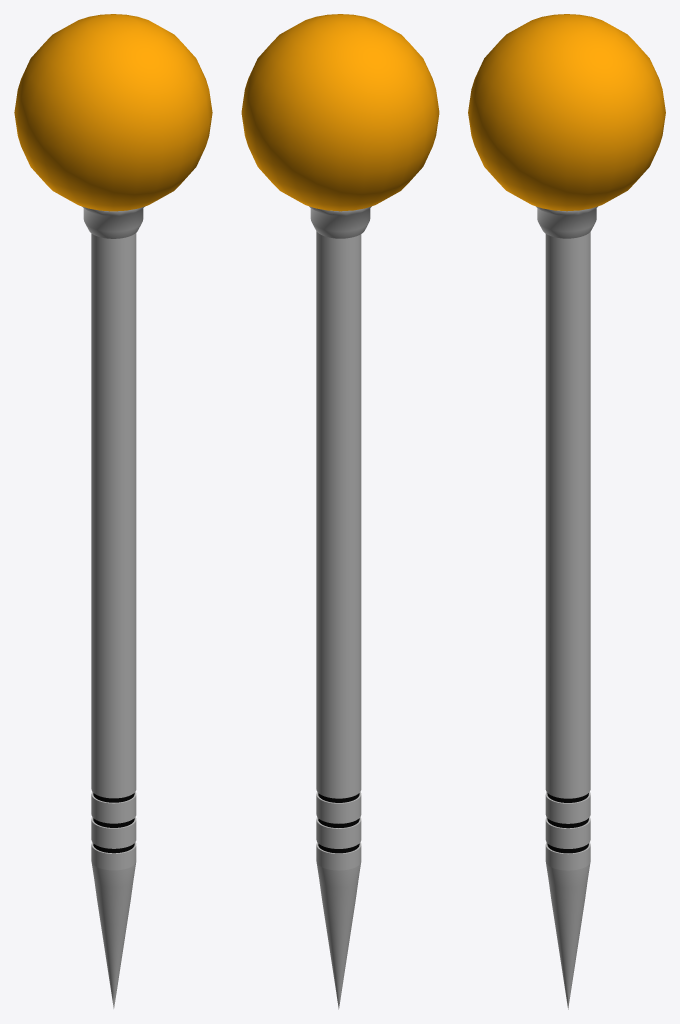
File: ORANGE.glb
3 renders of one model, left to right at view 1: azimuth 30°, elevation 25°; view 2: azimuth 150°, elevation 25°; view 3: azimuth 270°, elevation 25°, orthographic.
Visible parts, largest first — view 1: Needle, Sphere, Ball_Holder; view 2: Needle, Sphere, Ball_Holder; view 3: Needle, Sphere, Ball_Holder.
Boxes of the visible parts, box(x1,y1,x2,y2) form: Needle: box(91, 233, 136, 1008); Sphere: box(14, 14, 212, 211); Ball_Holder: box(82, 206, 144, 238); Needle: box(316, 231, 361, 1009); Sphere: box(241, 14, 439, 211); Ball_Holder: box(309, 206, 371, 238); Needle: box(545, 232, 590, 1009); Sphere: box(468, 14, 665, 211); Ball_Holder: box(536, 206, 597, 238).
Bounding box in the file's own units: 2.2 × 12.1 × 2.2.
